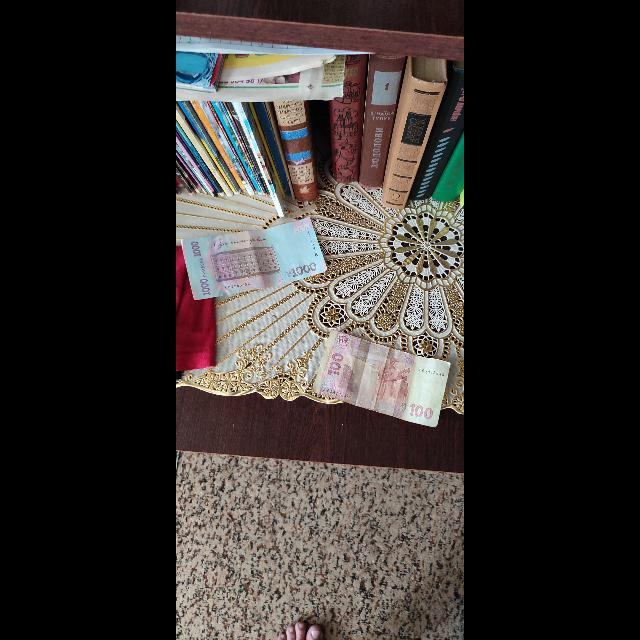1000uah: (180, 217, 326, 298)
100uah: (313, 327, 452, 427)
